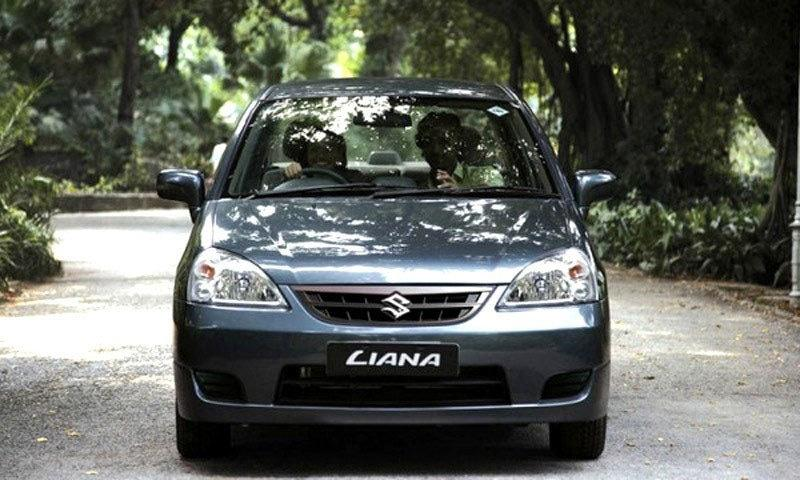windshield: (209, 90, 565, 201)
